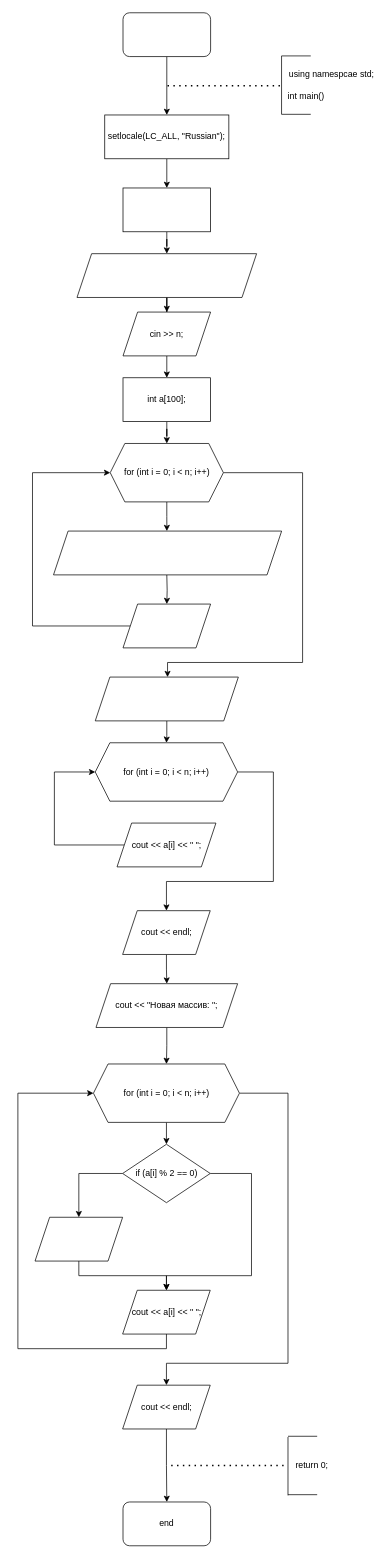
Some shapes in this 392 by 1559 pixel diagram are drawn without their labels. The shapes that lost their labels are listed below. From the top down, each one's box as (x1, y1, x2, y2) in pixels, then its label:
(122, 12, 211, 57): Start
(122, 187, 211, 232): int n;
(76, 253, 257, 297): cout << "Введите размер массива: ";
(53, 530, 282, 575): cout << "Введите число номер " << n + 1 << ":";
(122, 603, 211, 648): cin >> a[i];
(95, 676, 238, 721): cout << "Массив: ";
(34, 1217, 123, 1261): cout << "-1 ";
